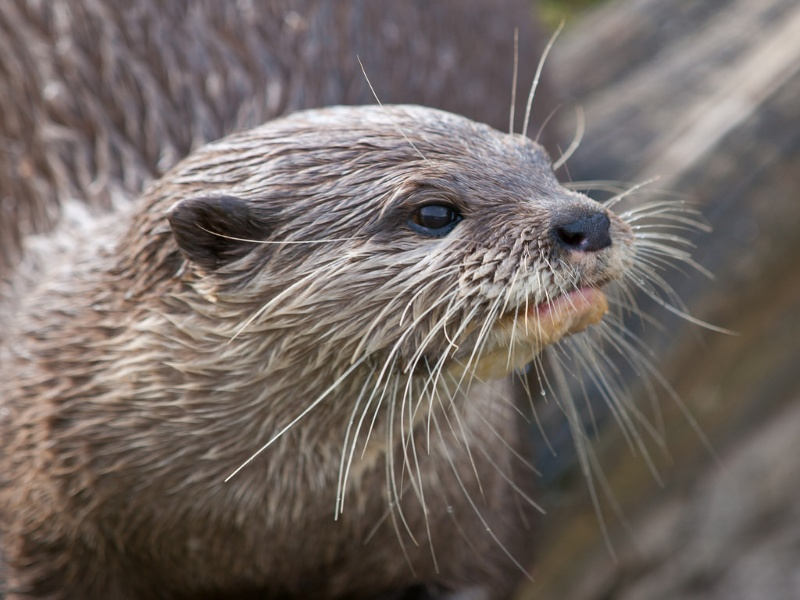minkish: (8, 5, 664, 593)
